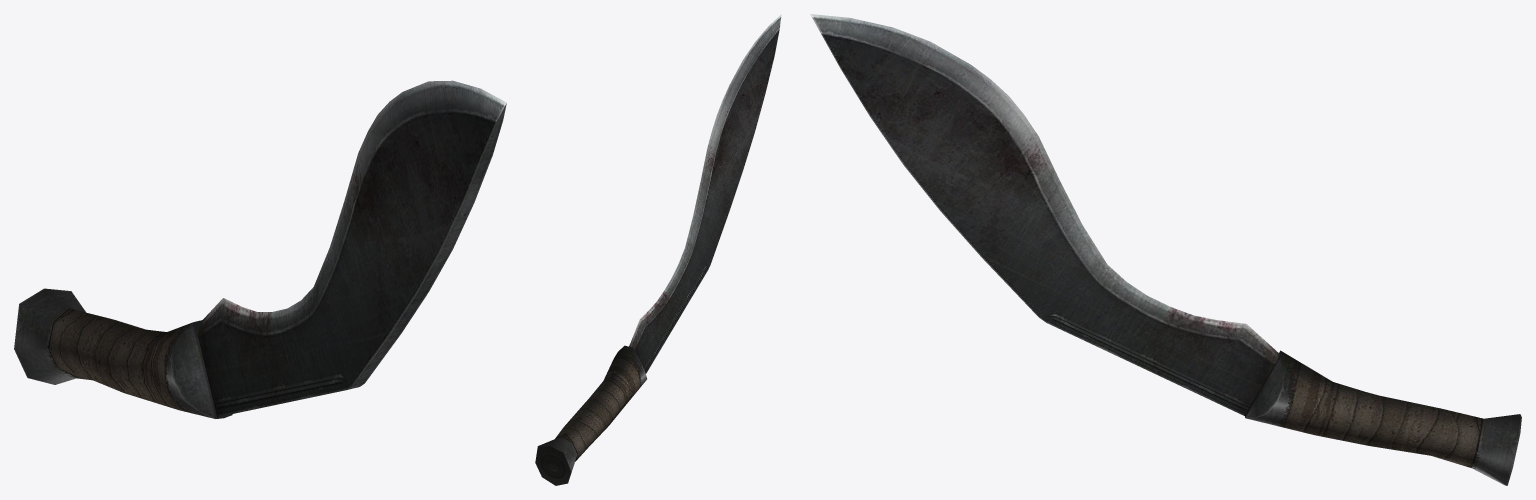
Rendered from Kukrii.obj.
3 views of the same model, side by side, from view 1: azimuth 30°, elevation 25°; view 2: azimuth 150°, elevation 25°; view 3: azimuth 270°, elevation 25° (orthographic). The views are drawn at different scales.
Visible parts, largest first — view 1: Kukrii; view 2: Kukrii; view 3: Kukrii.
Part boxes in pixels (x1,y1,x2,y2): Kukrii: (14,80,506,418); Kukrii: (535,14,781,485); Kukrii: (810,14,1521,485).
Bounding box in the file's own units: 0.0408 × 0.3323 × 0.4545.
1 material, 1 textured.
